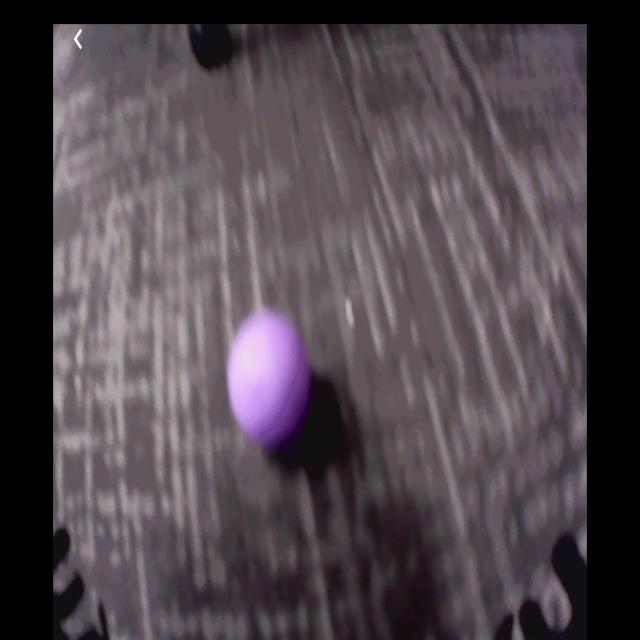ball: (229, 312, 310, 448)
